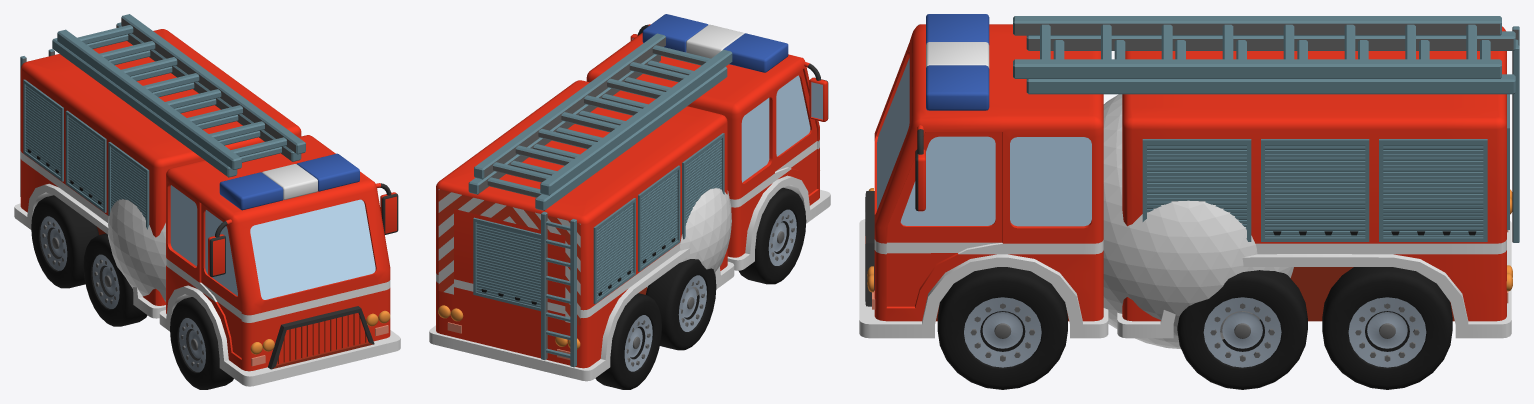
File: airport_firetruck.glb
3 views of the same model, side by side, from view 1: azimuth 30°, elevation 25°; view 2: azimuth 150°, elevation 25°; view 3: azimuth 270°, elevation 25° (orthographic). The views are drawn at different scales.
Visible parts, largest first — view 1: Body, Wheel_Back_Right, DriveBall, Wheel_Front_Right, Wheel_Middle_Right; view 2: Body, Wheel_Middle_Right, Wheel_Back_Right, Wheel_Front_Right, DriveBall; view 3: Body, DriveBall, Wheel_Back_Left, Wheel_Front_Left, Wheel_Middle_Left.
Boxes of the visible parts, box(x1,y1,x2,y2) form: Body: box(14, 14, 400, 386); Wheel_Back_Right: box(31, 195, 98, 288); DriveBall: box(108, 199, 165, 301); Wheel_Front_Right: box(170, 297, 233, 389); Wheel_Middle_Right: box(83, 233, 147, 326); Body: box(429, 14, 830, 381); Wheel_Middle_Right: box(646, 259, 716, 350); Wheel_Back_Right: box(595, 293, 661, 389); Wheel_Front_Right: box(738, 187, 806, 284); DriveBall: box(647, 188, 731, 295); Body: box(859, 14, 1519, 338); DriveBall: box(1103, 94, 1293, 348); Wheel_Back_Left: box(1322, 267, 1452, 389); Wheel_Front_Left: box(937, 267, 1067, 389); Wheel_Middle_Left: box(1177, 270, 1307, 389).
Size of what is drawn, in the model's own units: 1.32 by 1.43 by 2.89.
Materials: 1 (1 with a texture image).
